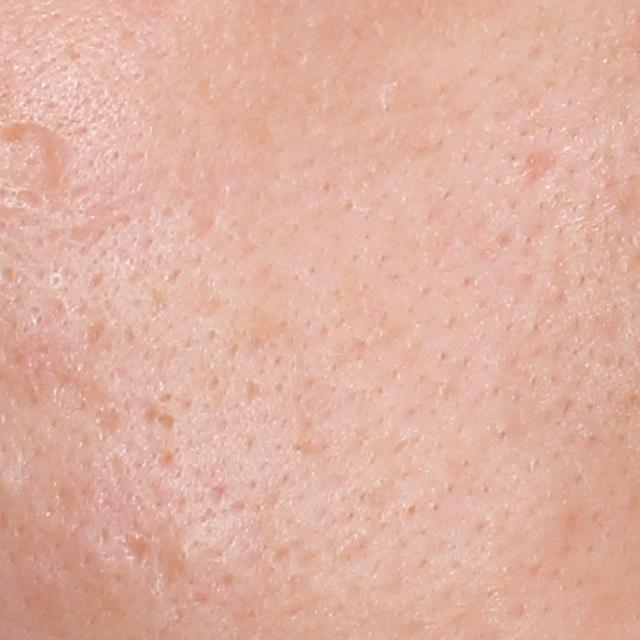atrophic_scar: (512, 141, 596, 218), (152, 534, 192, 593), (115, 530, 154, 571), (91, 403, 122, 444), (140, 405, 178, 435)
comedo: (169, 540, 198, 569)
